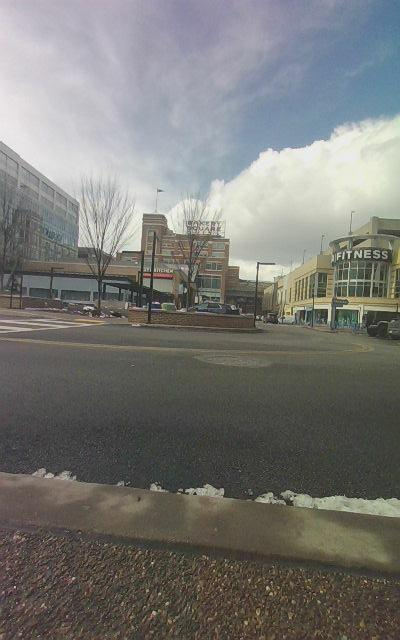curb: (0, 317, 399, 516), (0, 473, 399, 639)
